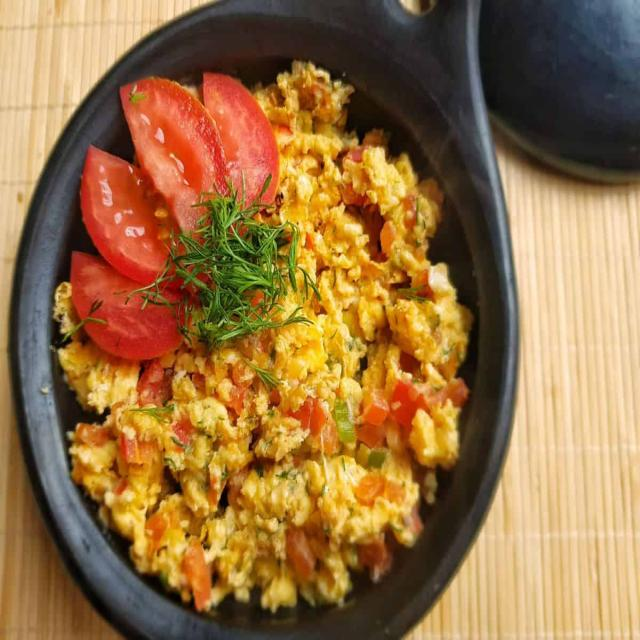garbanzos: (129, 360, 443, 601)
